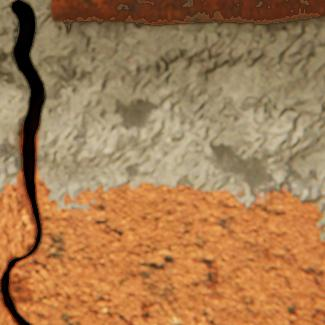brick: (51, 0, 324, 25)
broken_brick: (11, 166, 324, 324), (0, 166, 34, 276), (0, 291, 16, 324)
crack: (0, 0, 46, 324)
